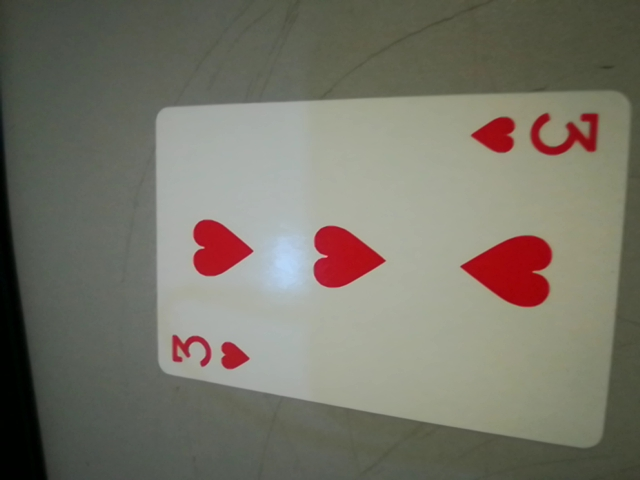hx 3: (470, 102, 616, 164)
